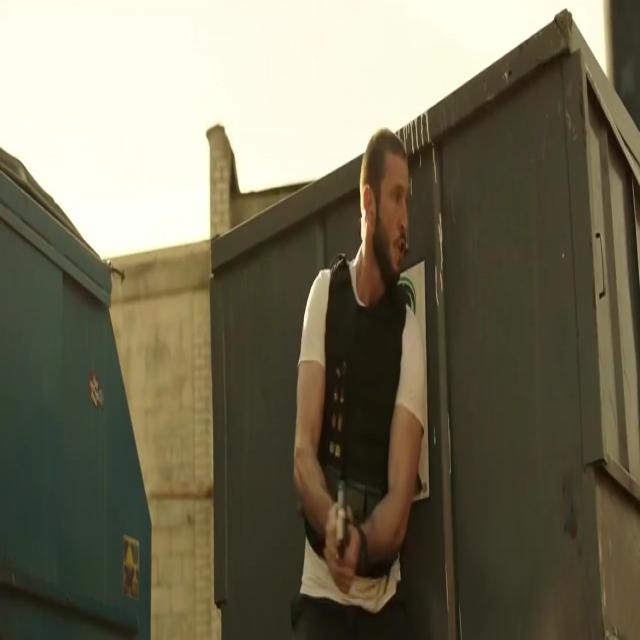Weapon: (324, 470, 366, 580)
